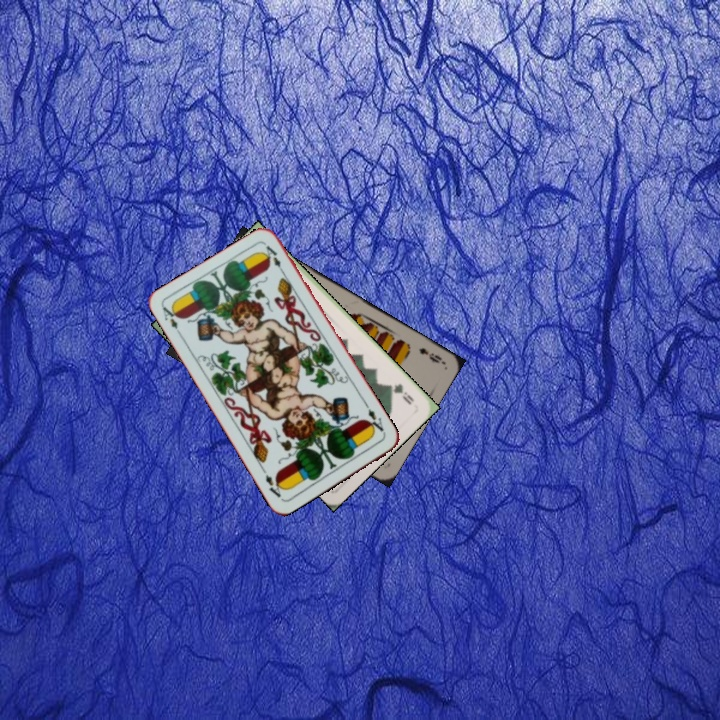E9: (415, 343, 446, 366)
EA: (158, 302, 185, 340), (362, 400, 388, 437)
G9: (385, 379, 417, 407)
